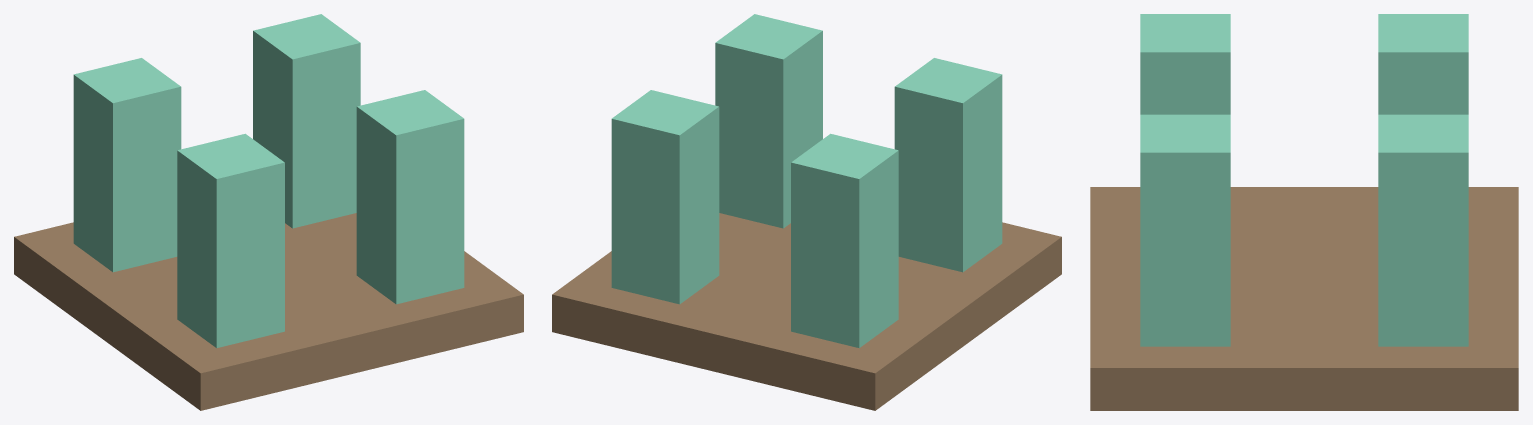
Rendered from Prop_DS_Crop_Clover_S3_V2.glb.
3 views of the same model, side by side, from view 1: azimuth 30°, elevation 25°; view 2: azimuth 150°, elevation 25°; view 3: azimuth 270°, elevation 25° (orthographic). The views are drawn at different scales.
Parts seen in each view (by area): view 1: Prop_DS_Crop_Clover_S3_V2; view 2: Prop_DS_Crop_Clover_S3_V2; view 3: Prop_DS_Crop_Clover_S3_V2.
Boxes of the visible parts, x1,y1,x2,y2 form: Prop_DS_Crop_Clover_S3_V2: (14,14,523,410); Prop_DS_Crop_Clover_S3_V2: (552,14,1061,410); Prop_DS_Crop_Clover_S3_V2: (1090,14,1518,410).
Bounding box in the file's own units: 0.9 × 0.55 × 0.9.
